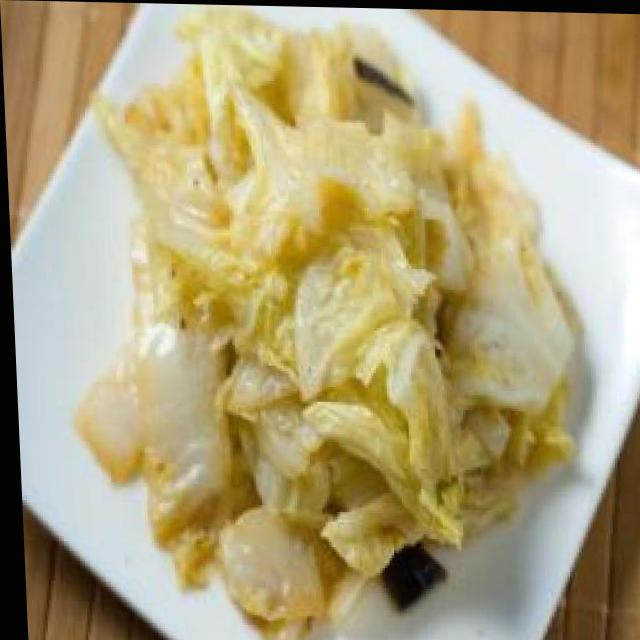chinese_cabbage: (115, 57, 478, 568)
